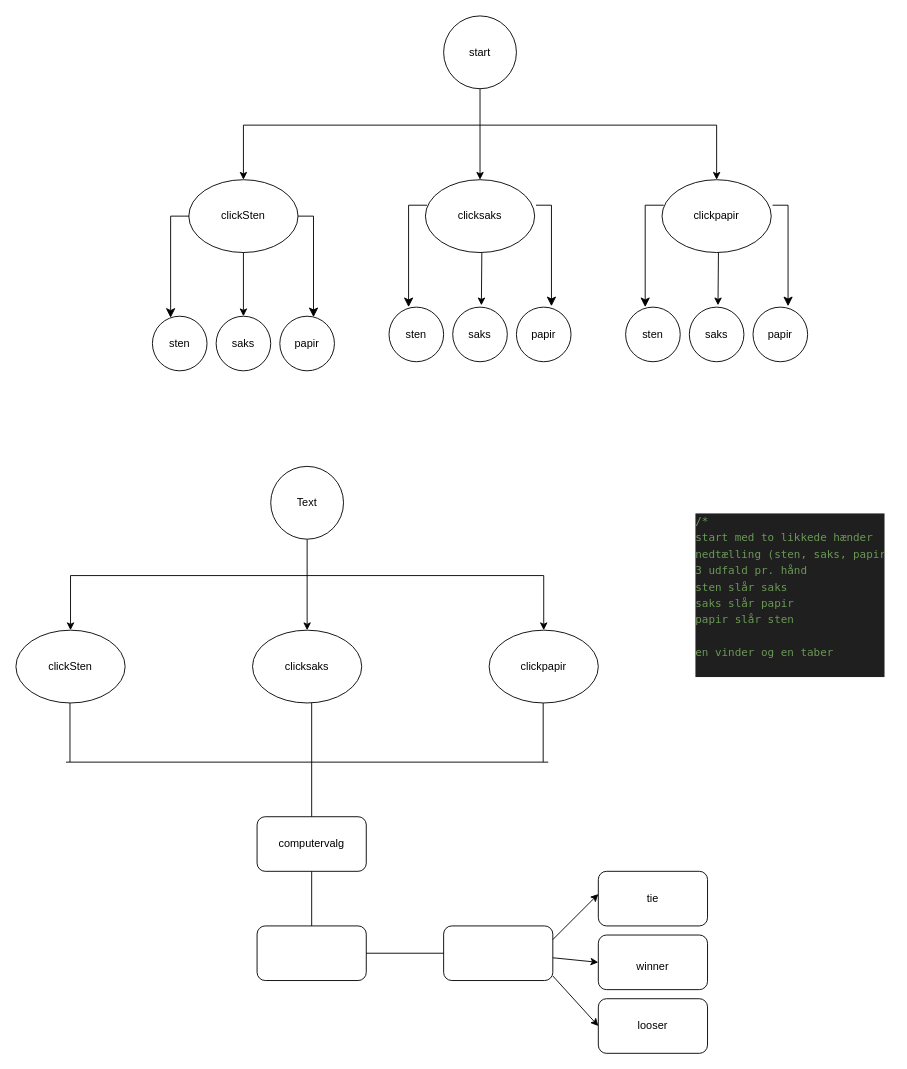
Image size: 907x1069. Some labels were removed from this diagram. Here are the shapes that lost their labels. From the top down, the box of each, then its label:
(256, 925, 366, 981): animation kører
(443, 925, 553, 981): evaluering
